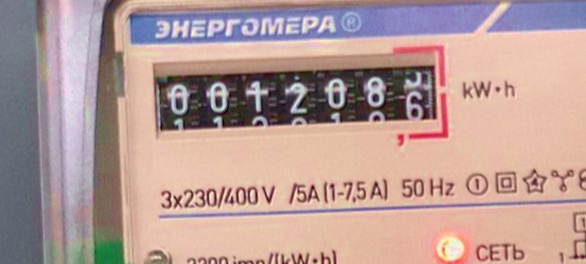0: (324, 74, 351, 110), (207, 77, 232, 115), (169, 79, 191, 117)
1: (248, 77, 267, 114)
2: (285, 79, 313, 115)
6: (403, 86, 427, 122)
8: (363, 73, 388, 110)
screen: (142, 34, 460, 169)
